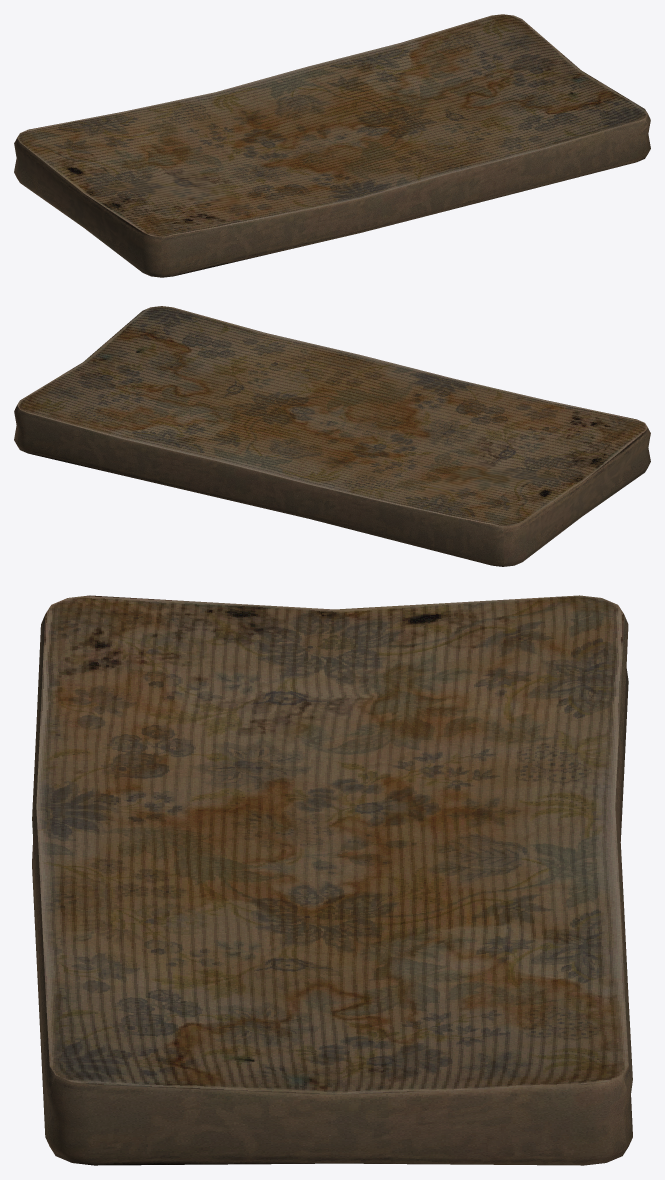
File: old_mattress_mx_1.glb
The picture shows the model from 3 angles, top to bottom: view 1: azimuth 30°, elevation 25°; view 2: azimuth 150°, elevation 25°; view 3: azimuth 270°, elevation 25°; orthographic projection. The views are drawn at different scales.
Visible parts, largest first — view 1: old_mattress_mx_1; view 2: old_mattress_mx_1; view 3: old_mattress_mx_1.
Boxes of the visible parts, <box> form: old_mattress_mx_1: <box>14,14,650,277</box>; old_mattress_mx_1: <box>14,306,650,566</box>; old_mattress_mx_1: <box>32,595,632,1165</box>.
Size of the model in its own units: 2.62 by 0.2 by 1.35.
1 material, 1 textured.
